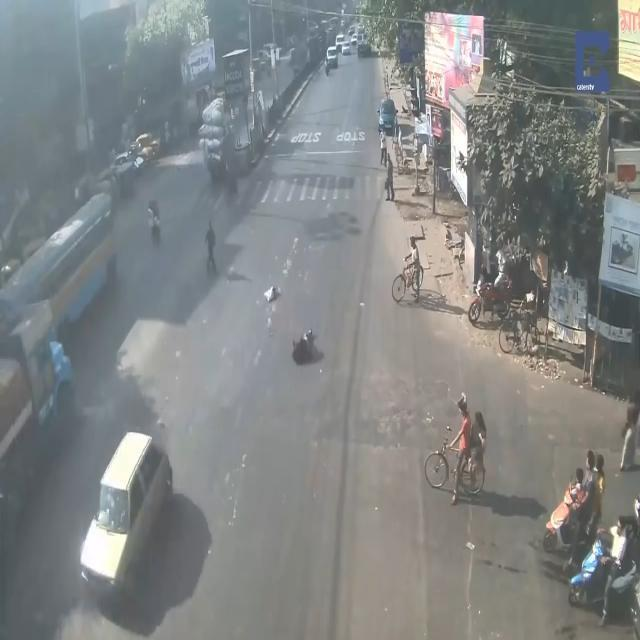accident: (73, 430, 185, 603), (287, 313, 322, 373)
